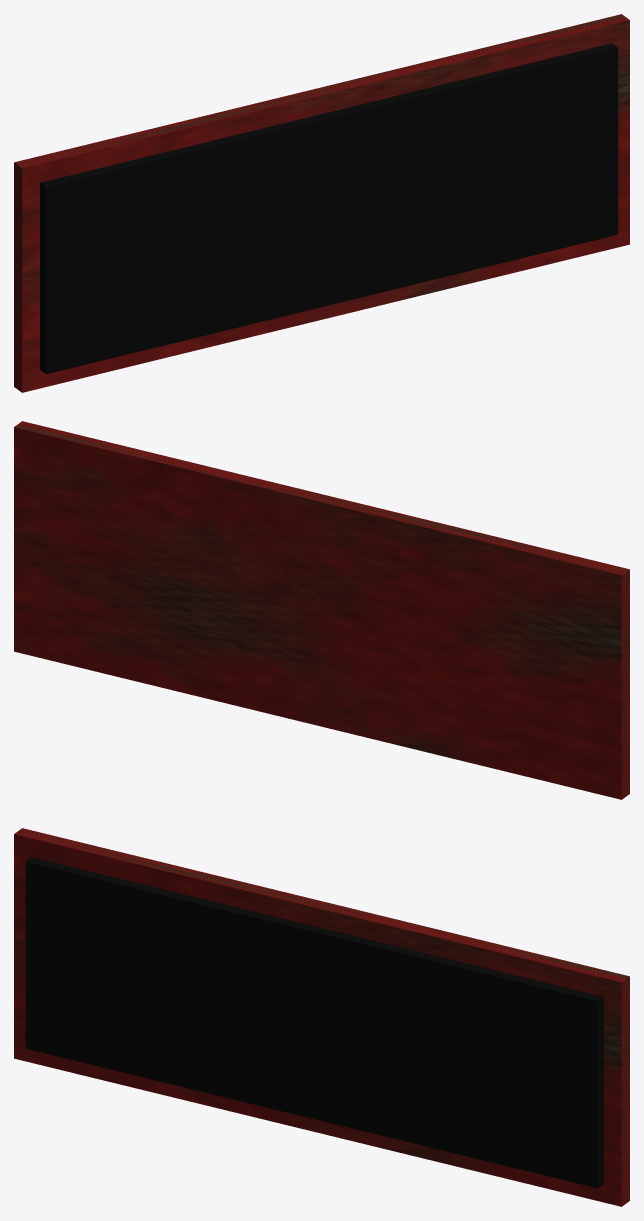
Rendered from plaque.glb.
The picture shows the model from 3 angles, top to bottom: view 1: azimuth 30°, elevation 25°; view 2: azimuth 150°, elevation 25°; view 3: azimuth 330°, elevation 25°; orthographic projection.
Visible parts, largest first — view 1: Board, Border; view 2: Border; view 3: Board, Border.
Boxes of the visible parts, x1=… form: Board: x1=40, y1=43, x2=618, y2=374; Border: x1=14, y1=14, x2=629, y2=392; Border: x1=14, y1=421, x2=629, y2=799; Board: x1=25, y1=857, x2=603, y2=1188; Border: x1=14, y1=828, x2=629, y2=1206.
Size of what is drawn, in the model's own units: 1.7 by 0.6 by 0.07.
2 materials, 2 textured.
